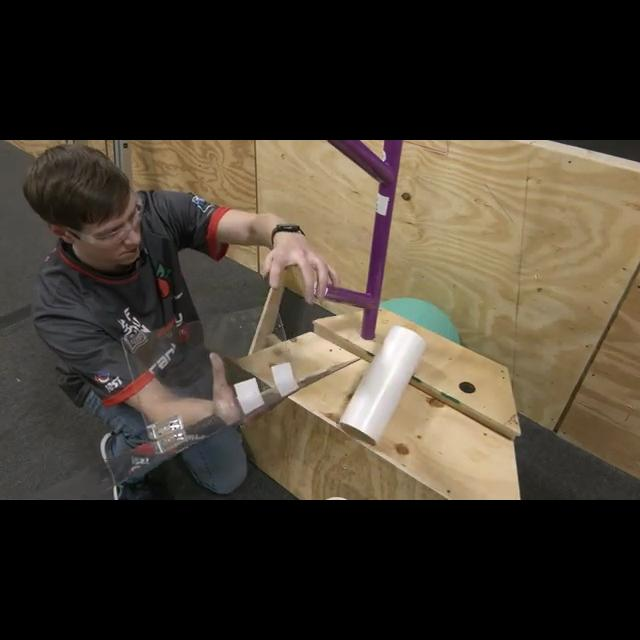CORAL: (338, 323, 427, 445)
